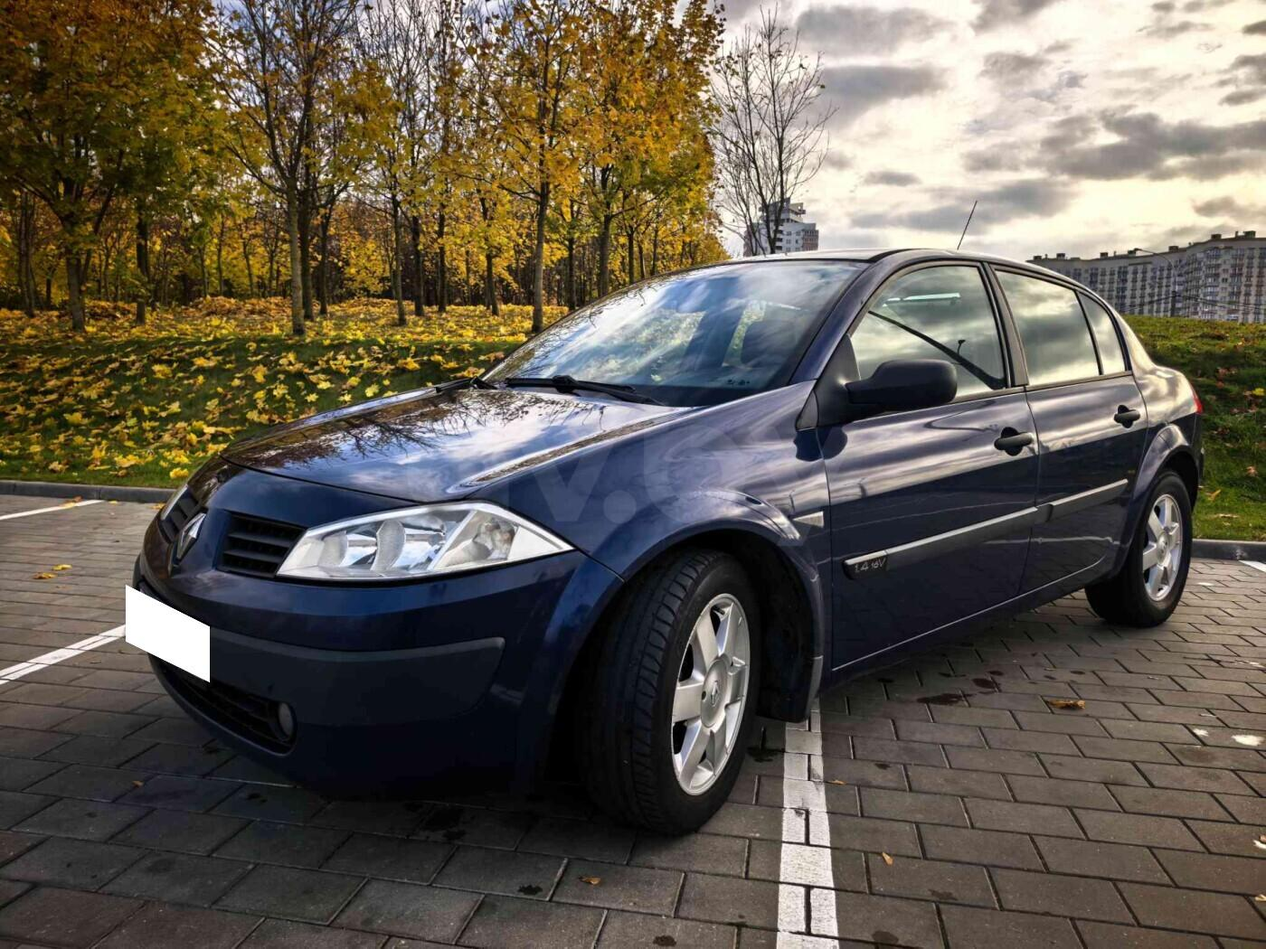Megane_2002-2006: (132, 247, 1217, 817)
